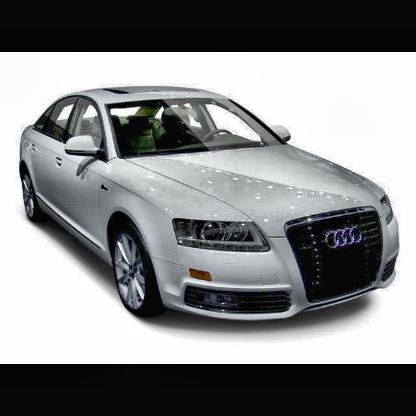Audi S6 Sedan 2011: (20, 89, 400, 326)
